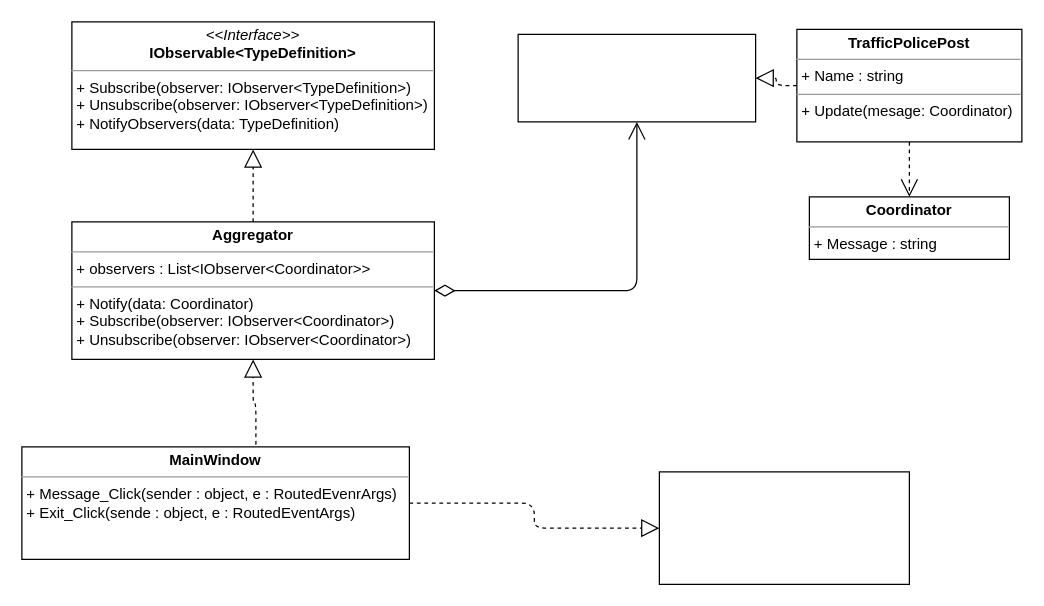
The diagram is 1044 pixels wide and 606 high, and some of its shapes have lost their labels. The centre of each missing label's shape, as x and y in pixels:
<<Interface>> IObserver + Update(data: TypeDefinition): [636,77]
WorkWithFile + QntLine() : int + WriteToFile() : []TraficPolicePost: [783,527]
